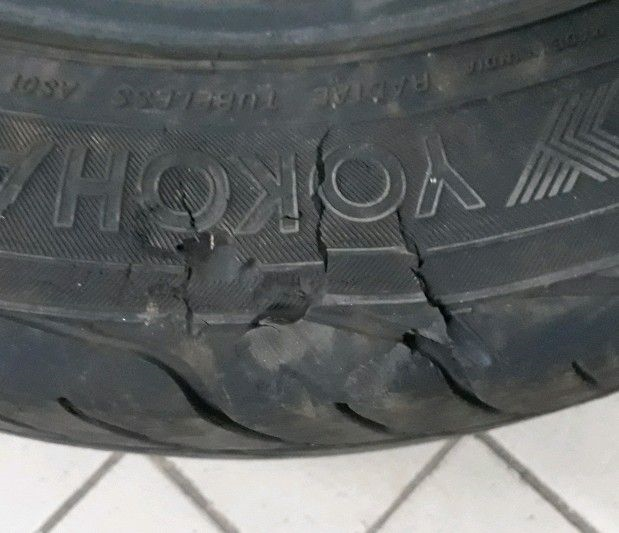cut: (394, 211, 453, 338), (175, 184, 199, 339), (311, 125, 333, 275), (247, 300, 314, 330), (400, 329, 432, 353)
